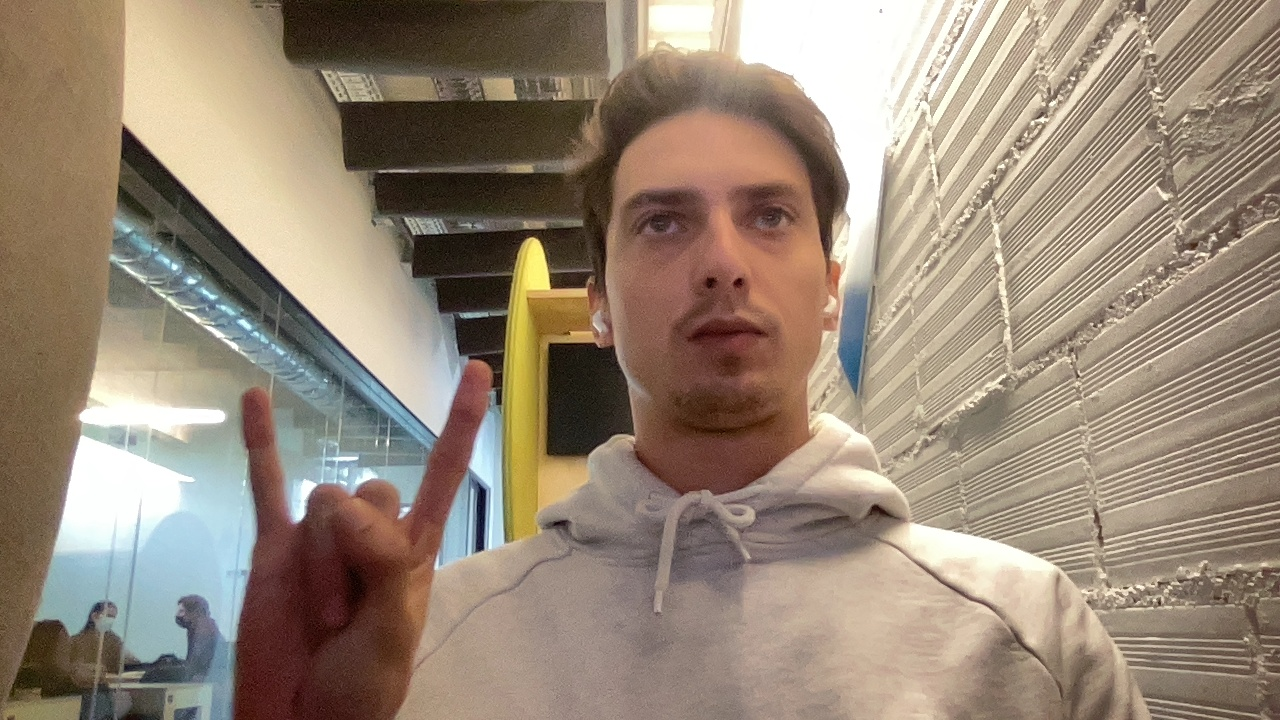iloveyou: (203, 355, 517, 713)
